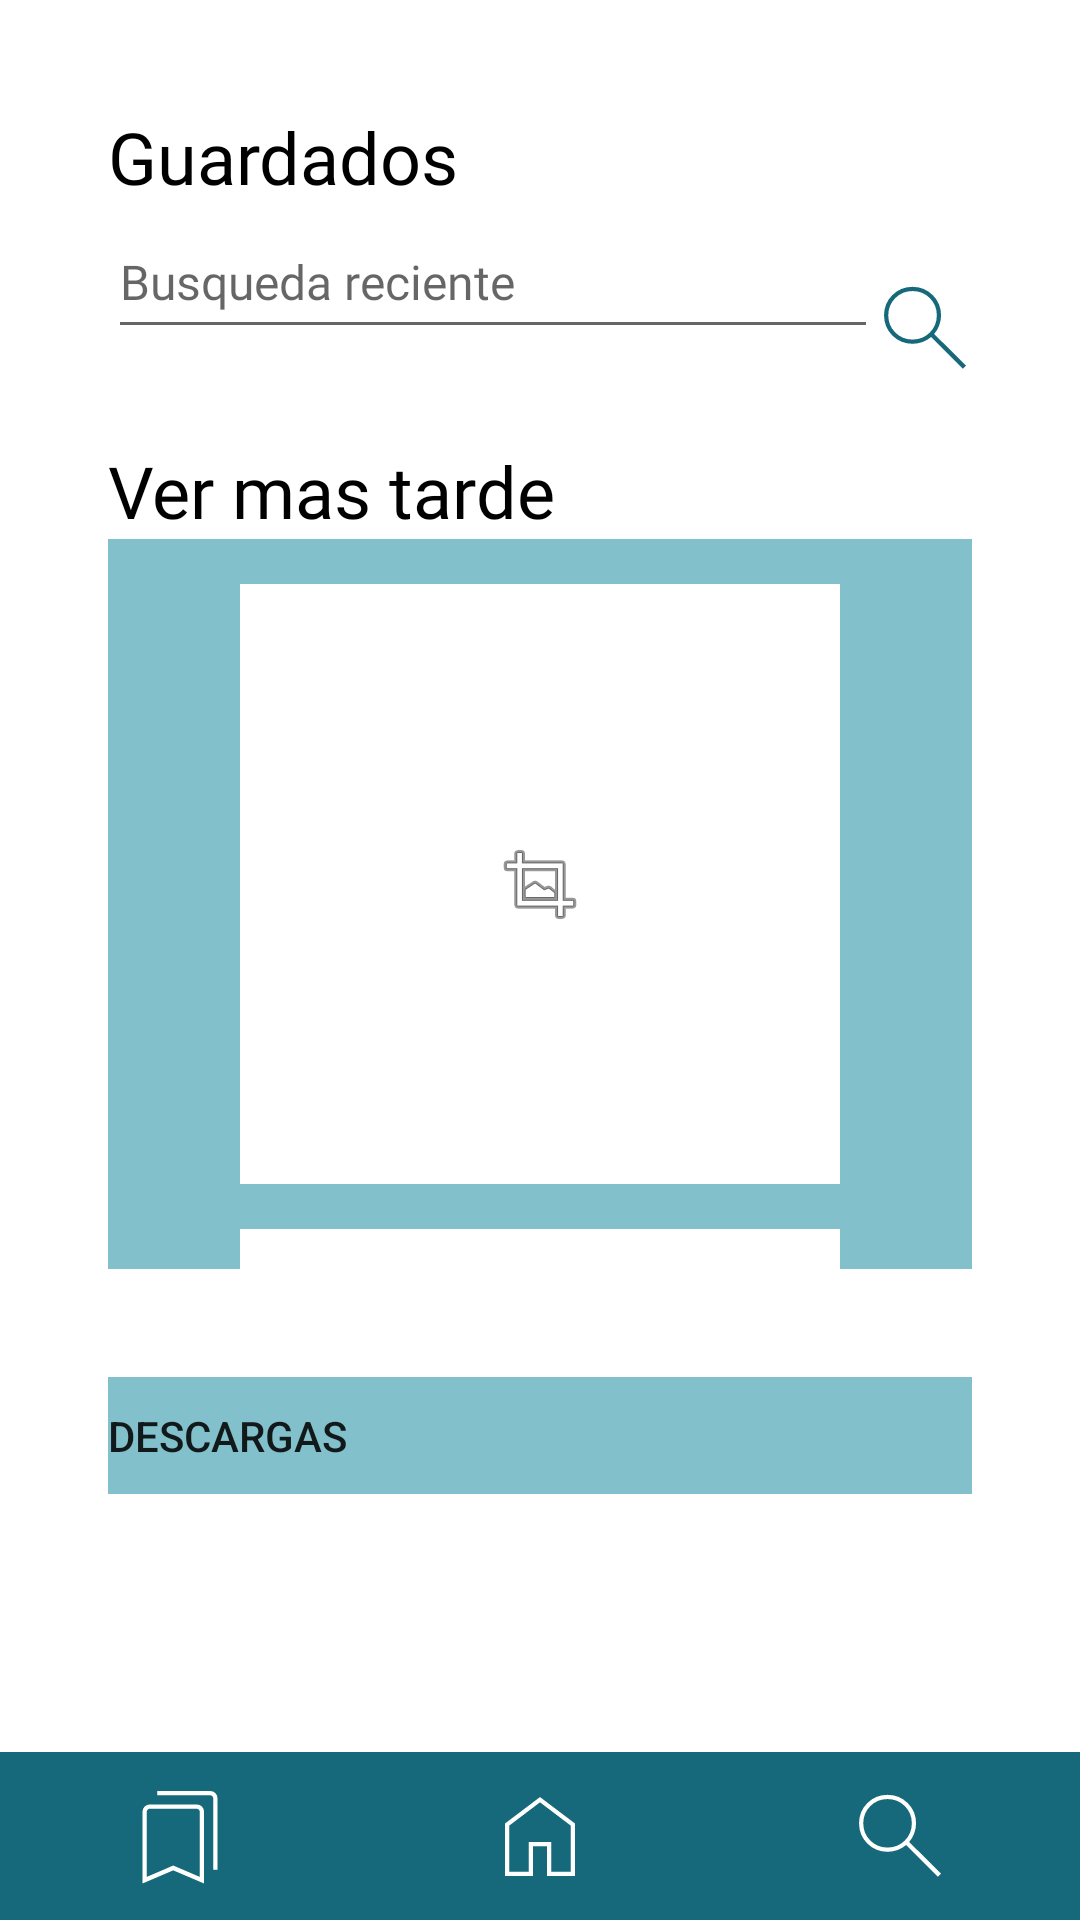

Screen size 1080px×1920px. Icon name, then its center in pixels as [x,y]:
bookmarks: [180,1837]
home: [540,1836]
search: [925,327], [900,1835]
